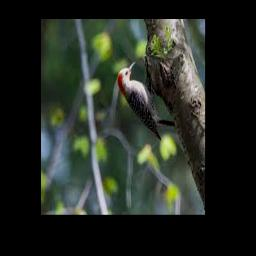Woodpecker: (118, 60, 176, 140)
